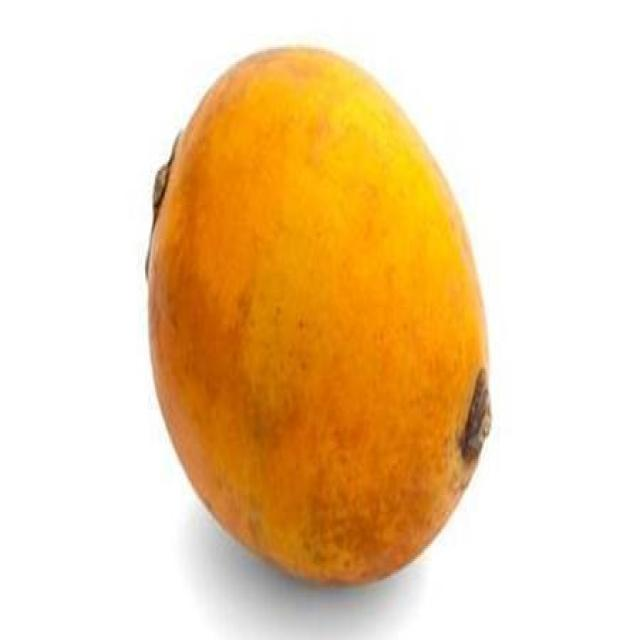good: (145, 47, 494, 591)
